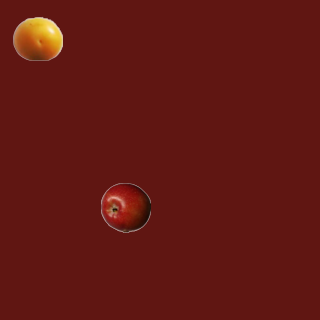Apple Braeburn: (100, 182, 150, 232)
Cherry Wax Yellow: (12, 13, 62, 63)
